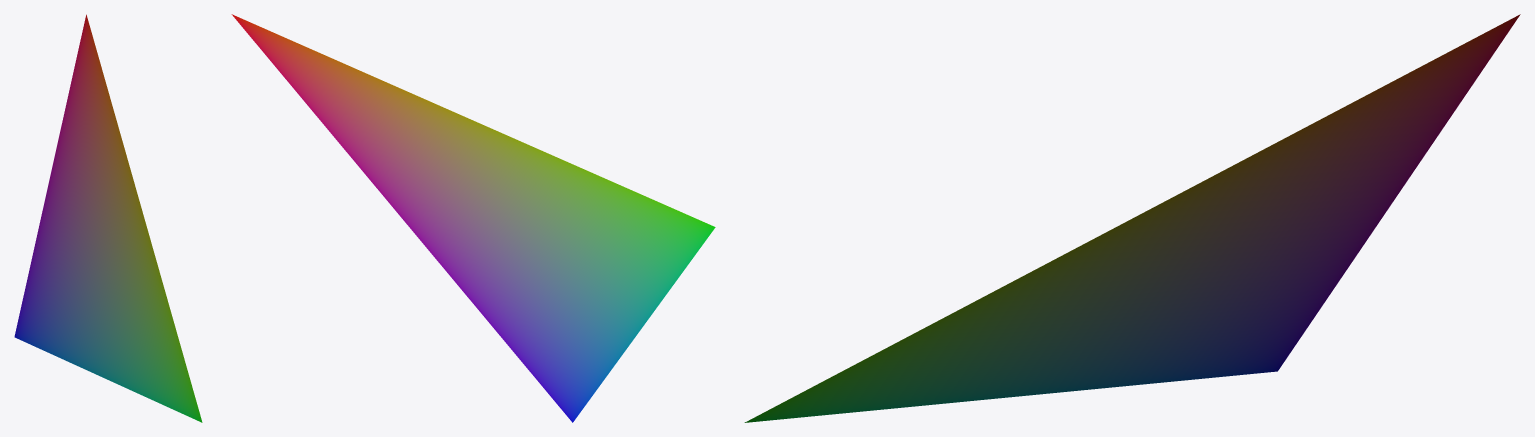
Rendered from face_cleaning_conquest_38.obj.
The picture shows the model from 3 angles, left to right: view 1: azimuth 30°, elevation 25°; view 2: azimuth 150°, elevation 25°; view 3: azimuth 270°, elevation 25°; orthographic projection. The views are drawn at different scales.
Bounding box in the file's own units: 0.284 × 0.5 × 0.7238.
